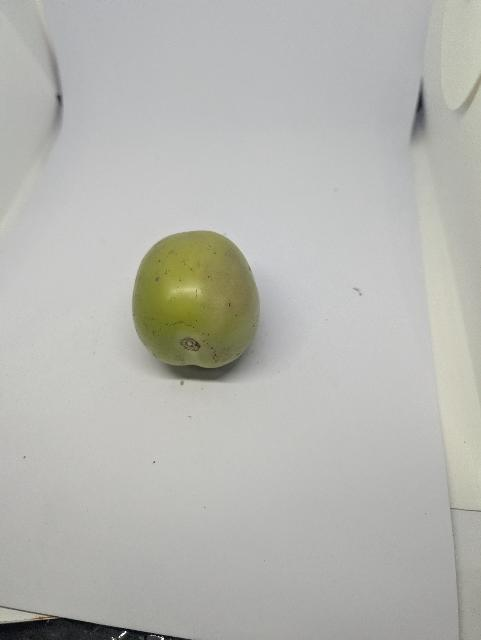green: (130, 228, 263, 374)
